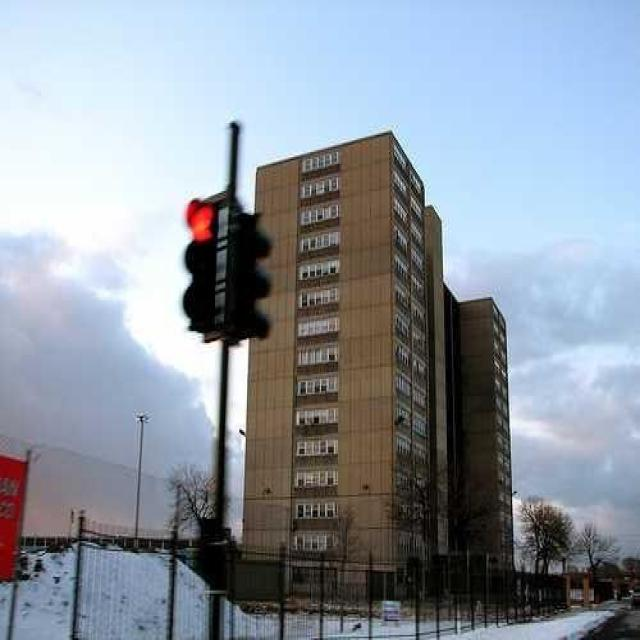Traffic Light -Red-: (180, 188, 226, 329)
